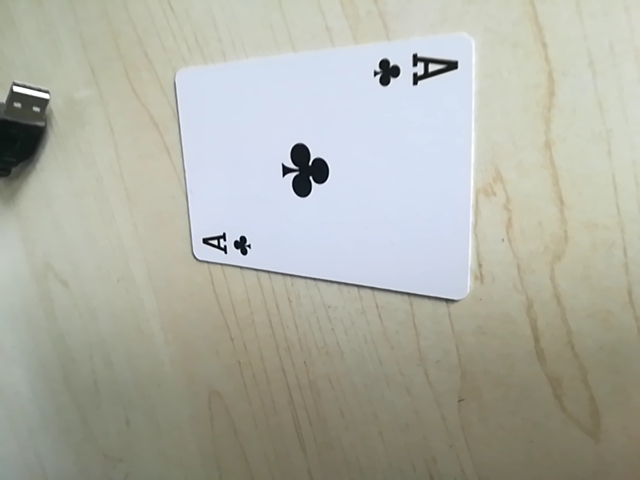mh a: (371, 47, 463, 96), (195, 222, 259, 262)
